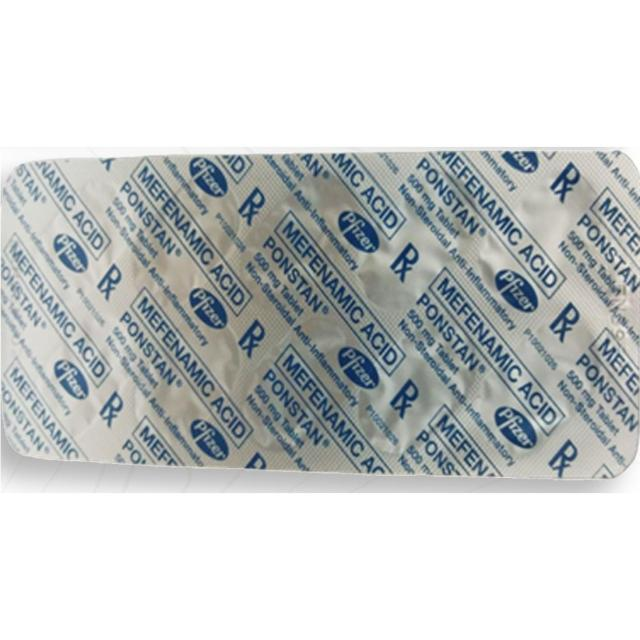blister: (2, 148, 639, 488)
